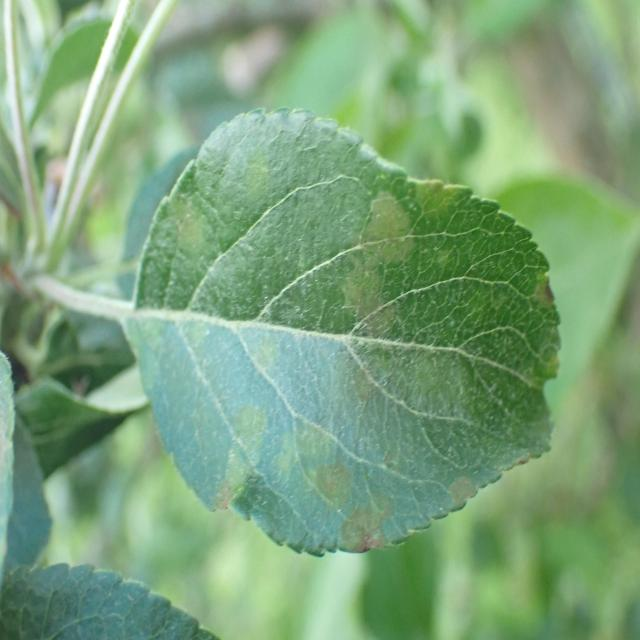scab: (155, 170, 559, 554)
